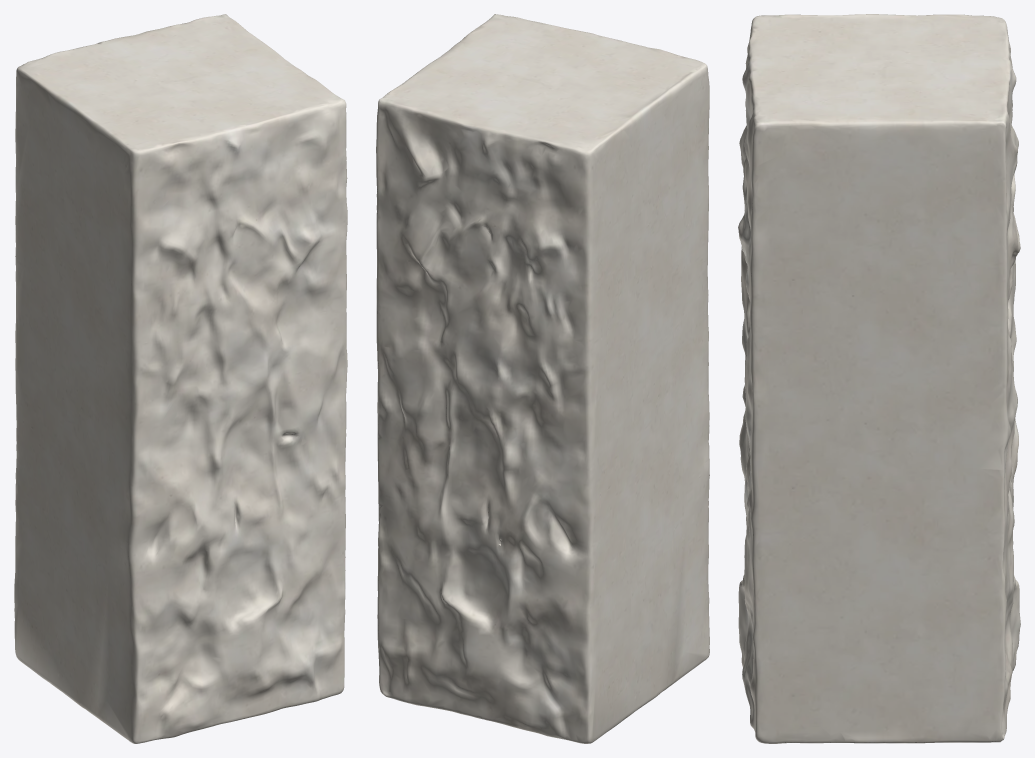
The model's file is dimensiva-podium-pedestal-by-101-copenhagen.optimized.glb.
3 views of the same model, side by side, from view 1: azimuth 30°, elevation 25°; view 2: azimuth 150°, elevation 25°; view 3: azimuth 270°, elevation 25° (orthographic). The views are drawn at different scales.
Visible parts, largest first — view 1: Podium Pedestal; view 2: Podium Pedestal; view 3: Podium Pedestal.
Boxes of the visible parts, left/top/right/bottom form: Podium Pedestal: left=14, top=14, right=347, bottom=743; Podium Pedestal: left=376, top=14, right=709, bottom=743; Podium Pedestal: left=738, top=14, right=1020, bottom=743.
Bounding box in the file's own units: 0.3033 × 0.8016 × 0.3293.
Materials: 1 (1 with a texture image).
